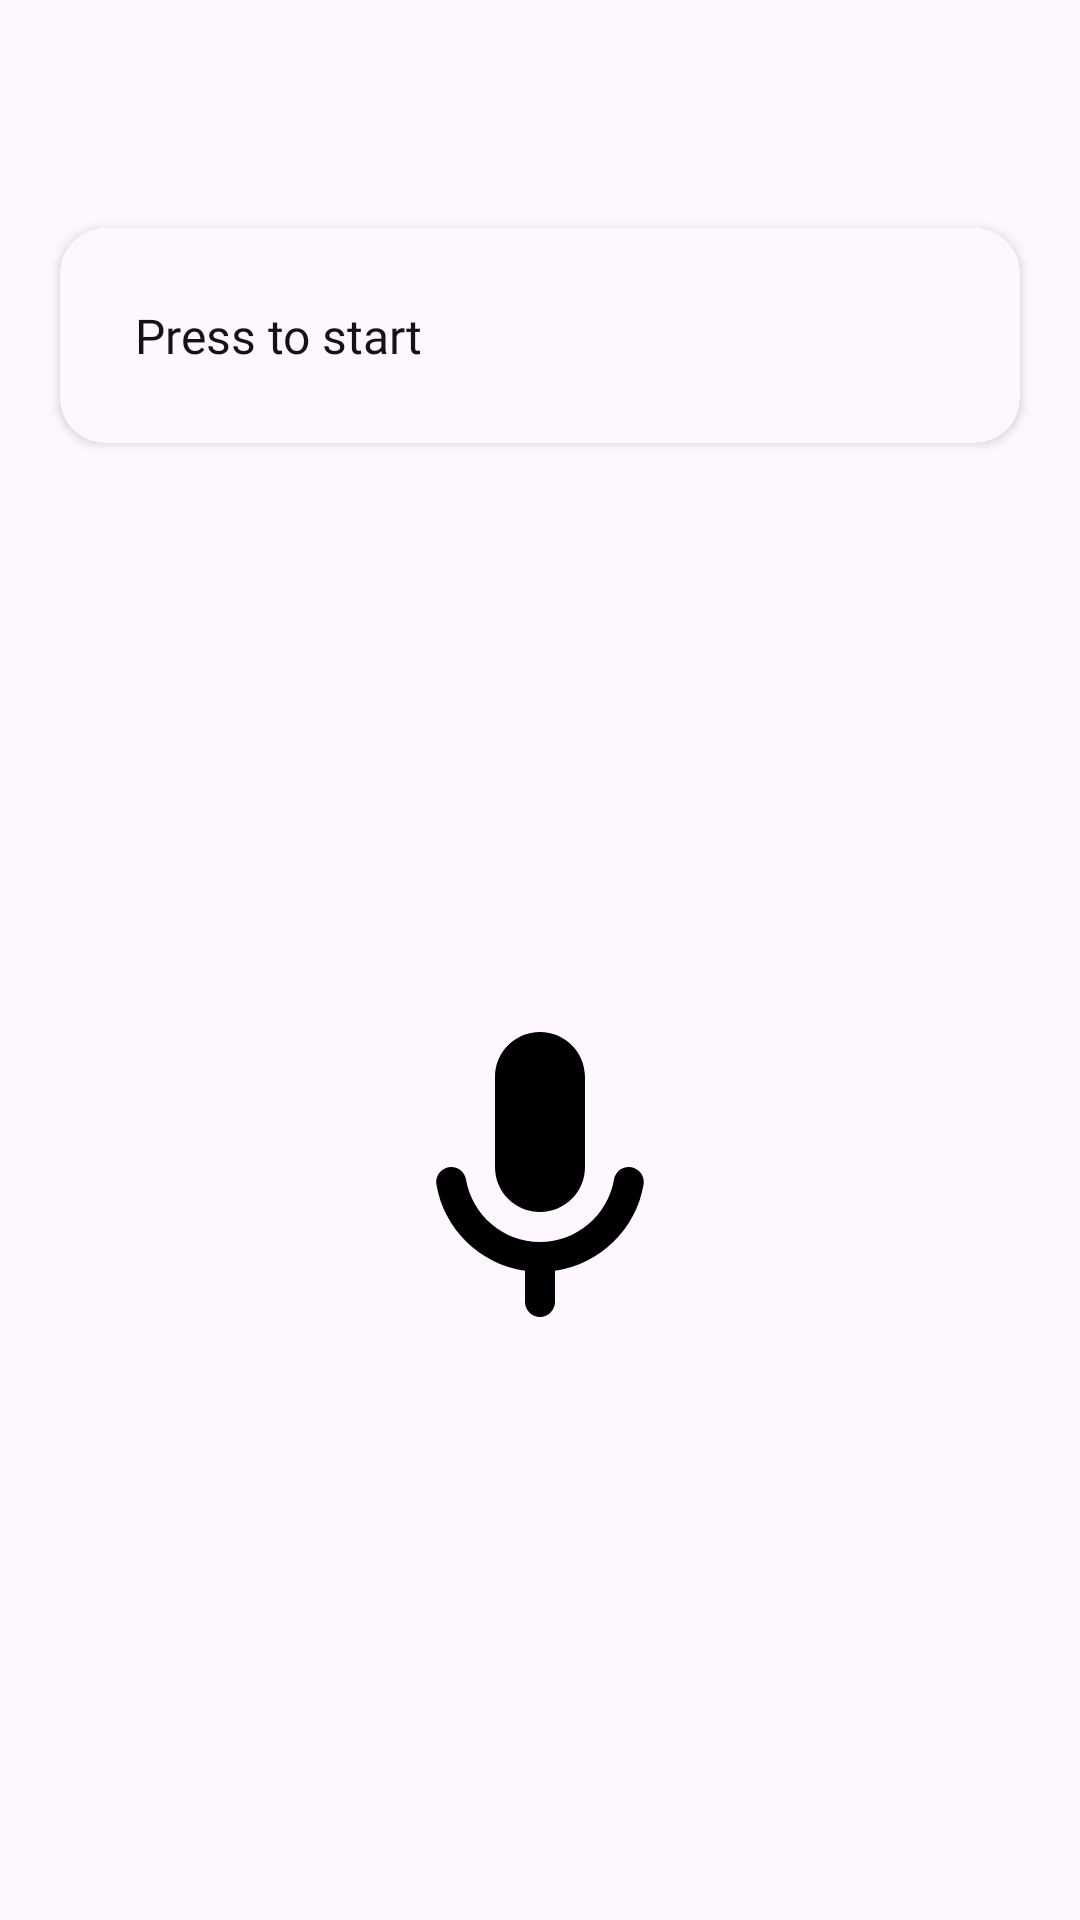

Icons on this 1080×1920 Android screen, each with the point to tap as (x,y):
mic: (540,1174)
